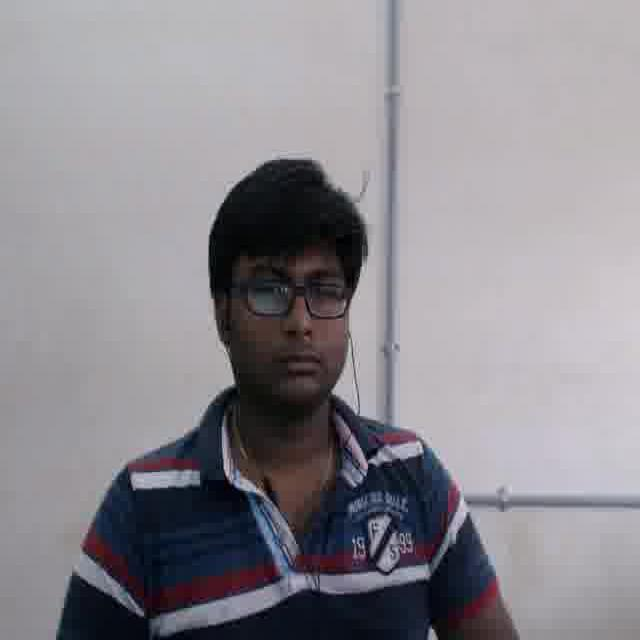Boredom: (235, 228, 347, 403)
